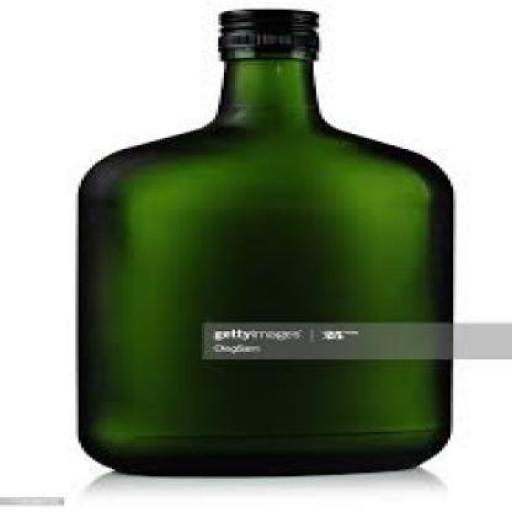glass: (75, 56, 451, 473)
metal: (216, 7, 313, 56)
